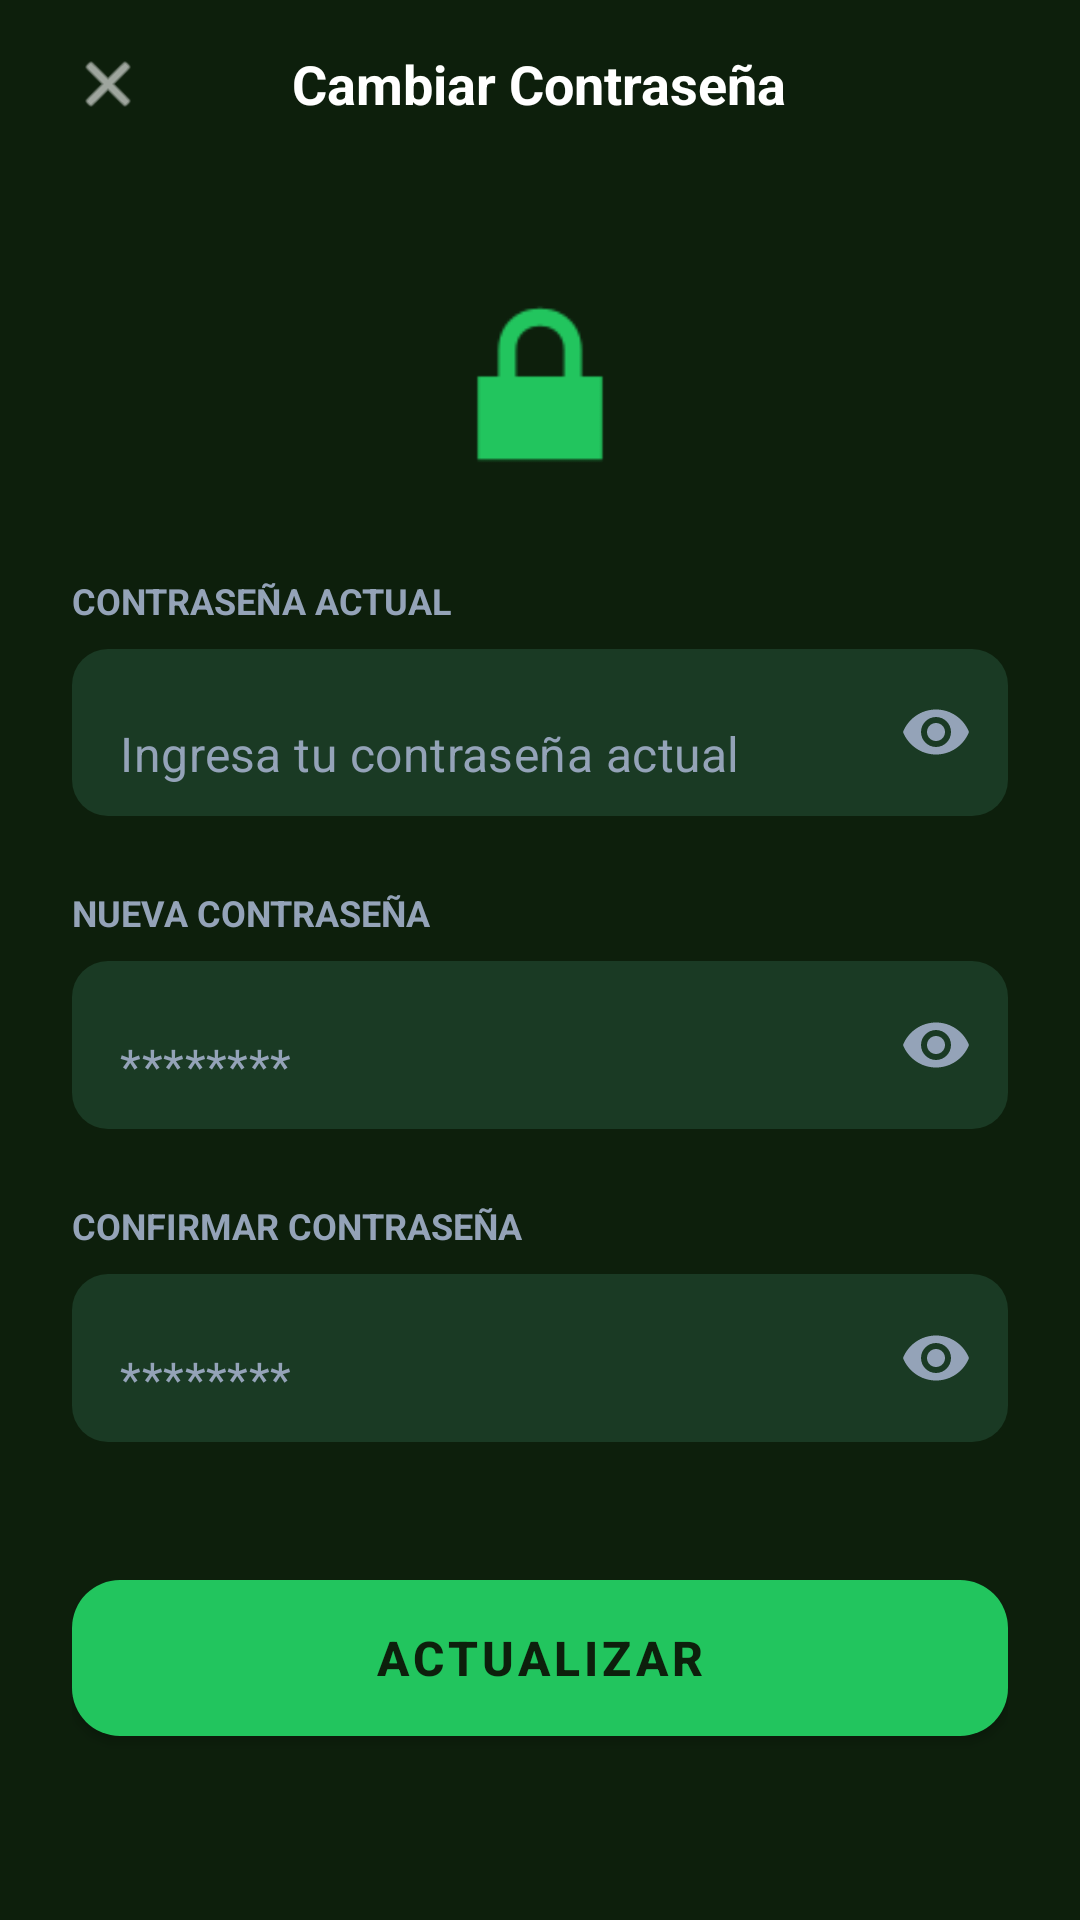

Icon bounding boxes for this 1080×1920 phone screenshot, format (x1=x1, y1=y1, x2=x2, y2=y2):
close clear cancel: (x1=85, y1=61, x2=131, y2=107)
lock: (x1=477, y1=307, x2=603, y2=461)
